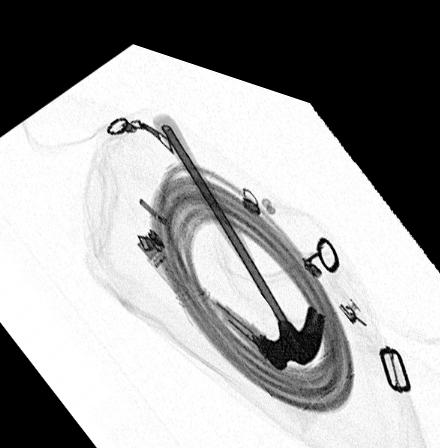Hammer: (150, 99, 325, 352)
